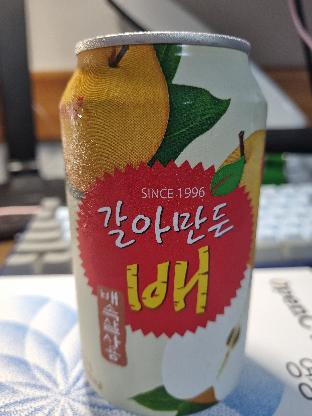Can: (55, 32, 268, 416)
